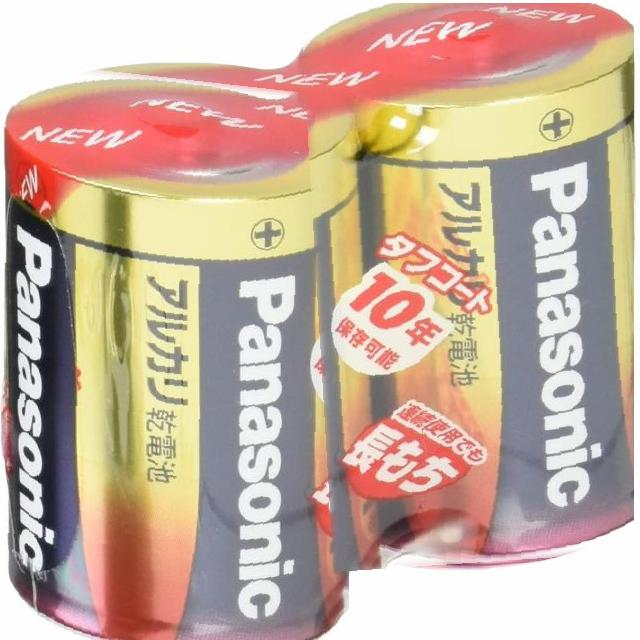battery: (0, 59, 353, 640), (300, 3, 634, 572)
